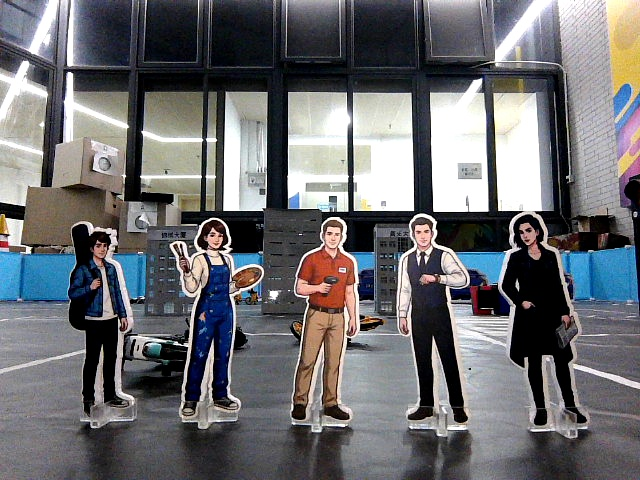community_person: (493, 207, 597, 444), (164, 211, 267, 435), (387, 204, 475, 442), (56, 214, 149, 435), (287, 206, 366, 439)
